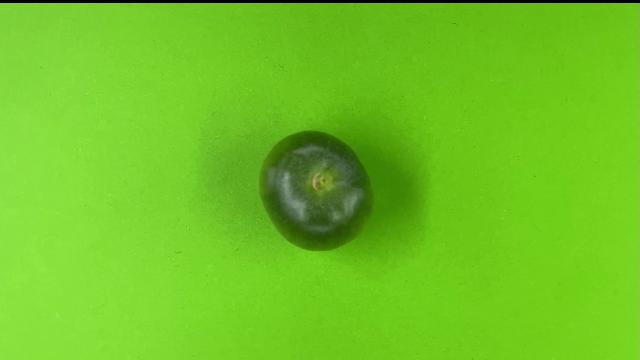Fruit Maturation: (256, 129, 376, 253)
